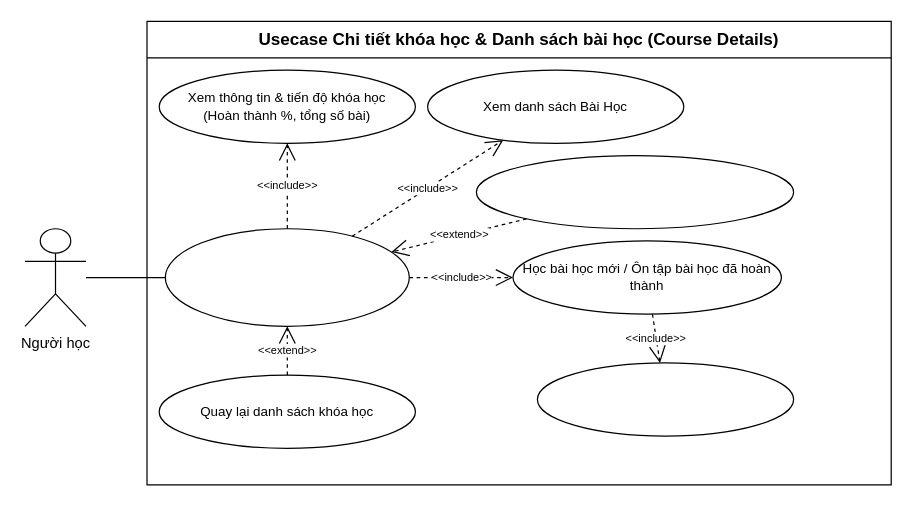
Some shapes in this 913 by 506 pixel diagram are drawn without their labels. Each missing label, with the box of its shape:
Tìm kiếm/Lọc bài học, Sắp xếp bài đã học lên đầu: (475, 154, 794, 229)
Xem chi tiết khóa học: (164, 228, 409, 326)
Xem danh sách từ vựng bài học: (536, 362, 794, 436)
